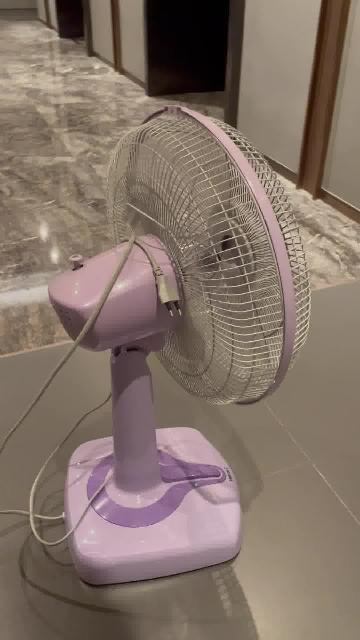Fan: (48, 106, 310, 588)
